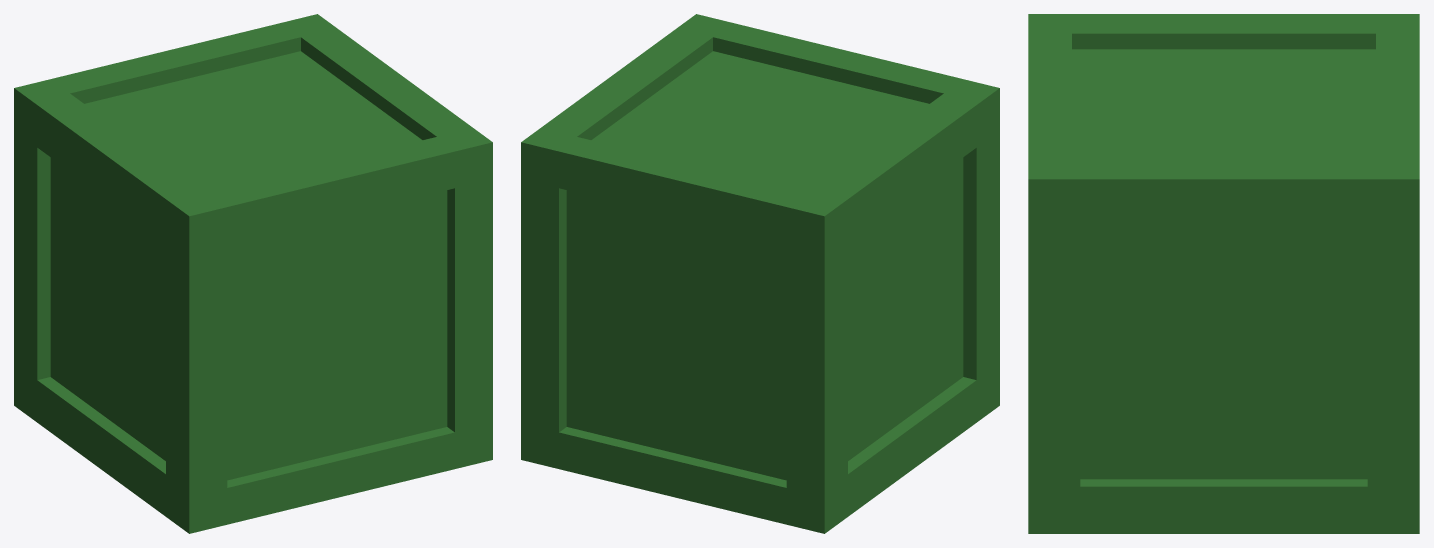
3 views of the same model, side by side, from view 1: azimuth 30°, elevation 25°; view 2: azimuth 150°, elevation 25°; view 3: azimuth 270°, elevation 25° (orthographic). The views are drawn at different scales.
Parts seen in each view (by area): view 1: OBJ_BOX_01; view 2: OBJ_BOX_01; view 3: OBJ_BOX_01.
Part boxes in pixels (x1=…): OBJ_BOX_01: x1=14, y1=14, x2=492, y2=533; OBJ_BOX_01: x1=521, y1=14, x2=999, y2=533; OBJ_BOX_01: x1=1028, y1=14, x2=1419, y2=533.
Size of the model in its own units: 3.28 by 3.28 by 3.28.
